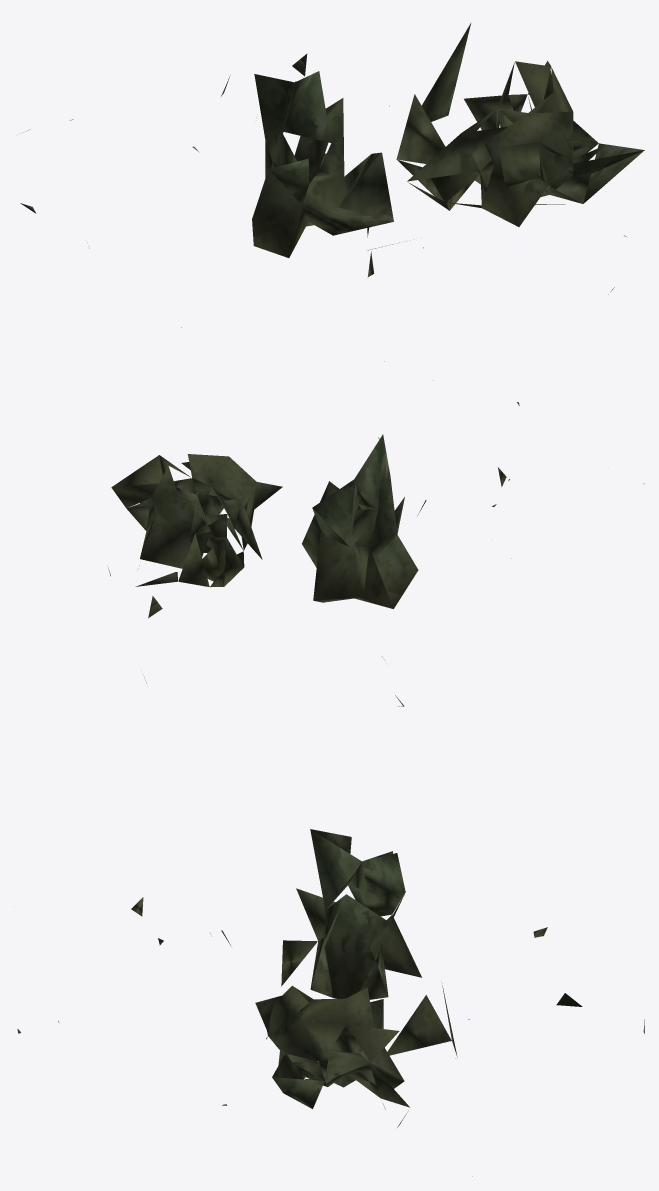
Rendered from bush-2.glb.
3 views of the same model, one above another, from view 1: azimuth 30°, elevation 25°; view 2: azimuth 150°, elevation 25°; view 3: azimuth 270°, elevation 25° (orthographic). The views are drawn at different scales.
Visible parts, largest first — view 1: geometry_0; view 2: geometry_0; view 3: geometry_0.
Part boxes in pixels (box(x1,y1,x2,y2)): geometry_0: box(20, 23, 644, 405); geometry_0: box(108, 434, 644, 706); geometry_0: box(17, 829, 644, 1176).
Bounding box in the file's own units: 0.7497 × 0.2615 × 0.7466.
1 material, 1 textured.
